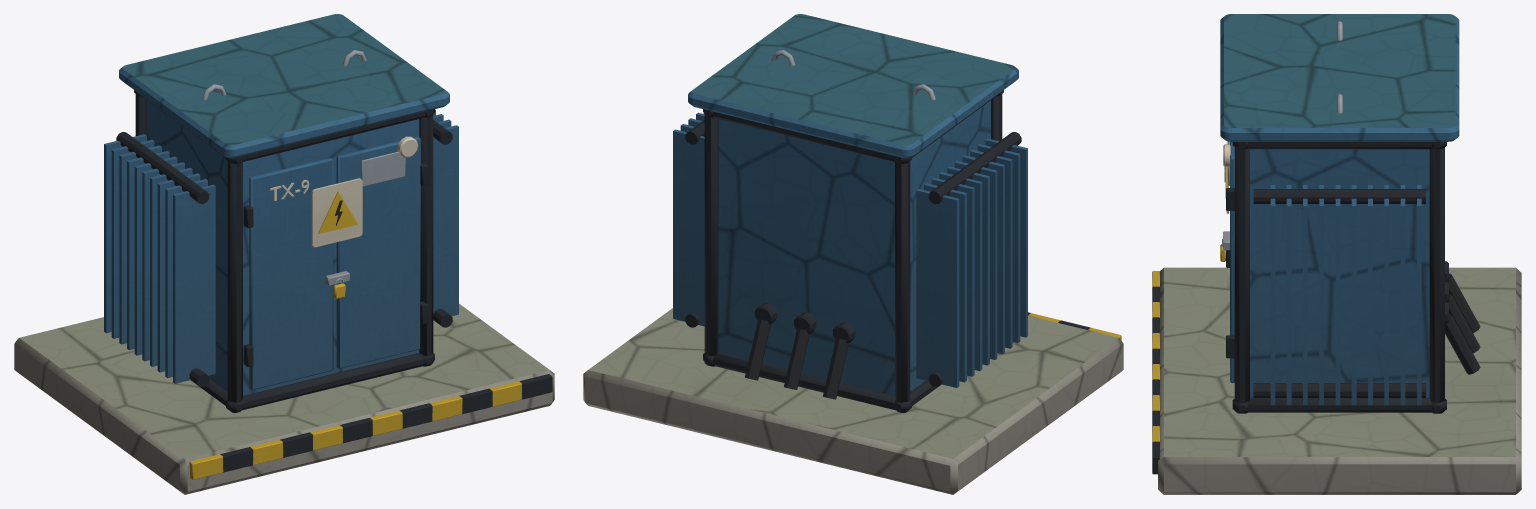
Rendered from transformer_box.glb.
The picture shows the model from 3 angles, left to right: view 1: azimuth 30°, elevation 25°; view 2: azimuth 150°, elevation 25°; view 3: azimuth 270°, elevation 25°; orthographic projection. The views are drawn at different scales.
Visible parts, largest first — view 1: transformer_box; view 2: transformer_box; view 3: transformer_box.
Boxes of the visible parts, x1,y1,x2,y2 form: transformer_box: (14,14,554,494); transformer_box: (583,14,1123,494); transformer_box: (1152,14,1521,494).
Size of the model in its own units: 2.4 by 1.98 by 1.93.
Materials: 15 (15 with a texture image).
